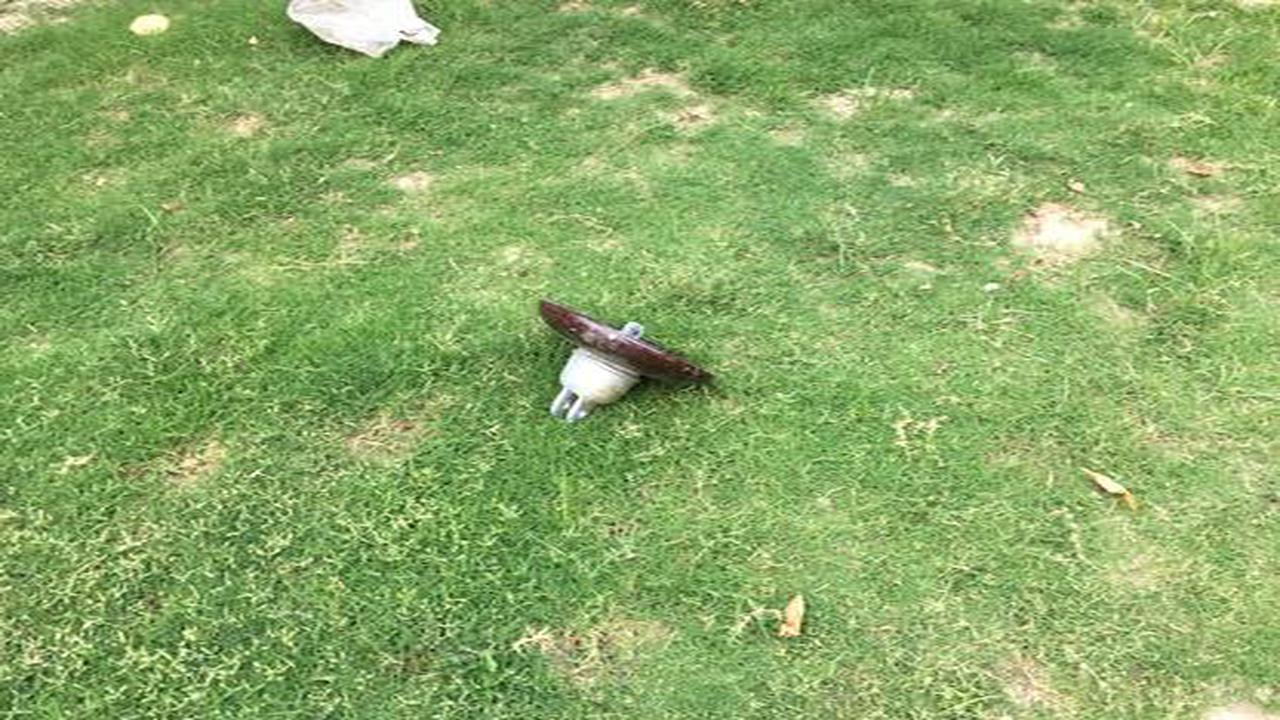insulator_disc: (530, 294, 711, 430)
